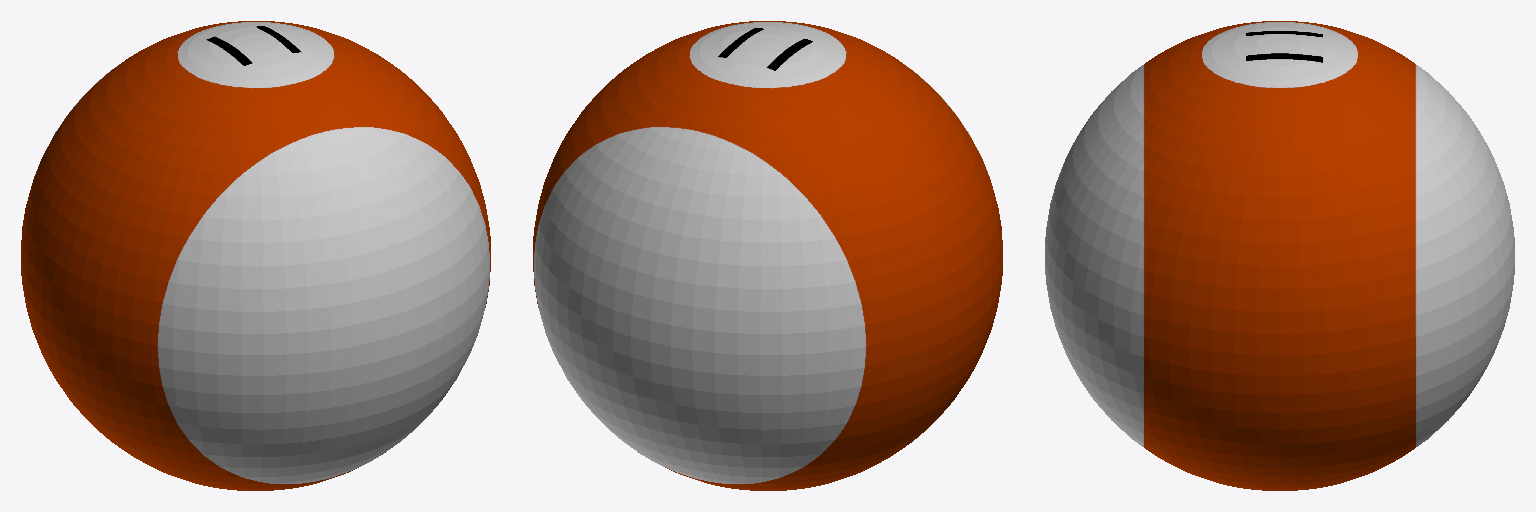
3 renders of one model, left to right at view 1: azimuth 30°, elevation 25°; view 2: azimuth 150°, elevation 25°; view 3: azimuth 270°, elevation 25°, orthographic.
Parts seen in each view (by area): view 1: Sphere; view 2: Sphere; view 3: Sphere.
Part boxes in pixels (bbox=[...]): Sphere: bbox=[21, 21, 490, 490]; Sphere: bbox=[533, 21, 1002, 490]; Sphere: bbox=[1045, 21, 1514, 490].
Bounding box in the file's own units: 2 × 2 × 2.
Materials: 1 (1 with a texture image).